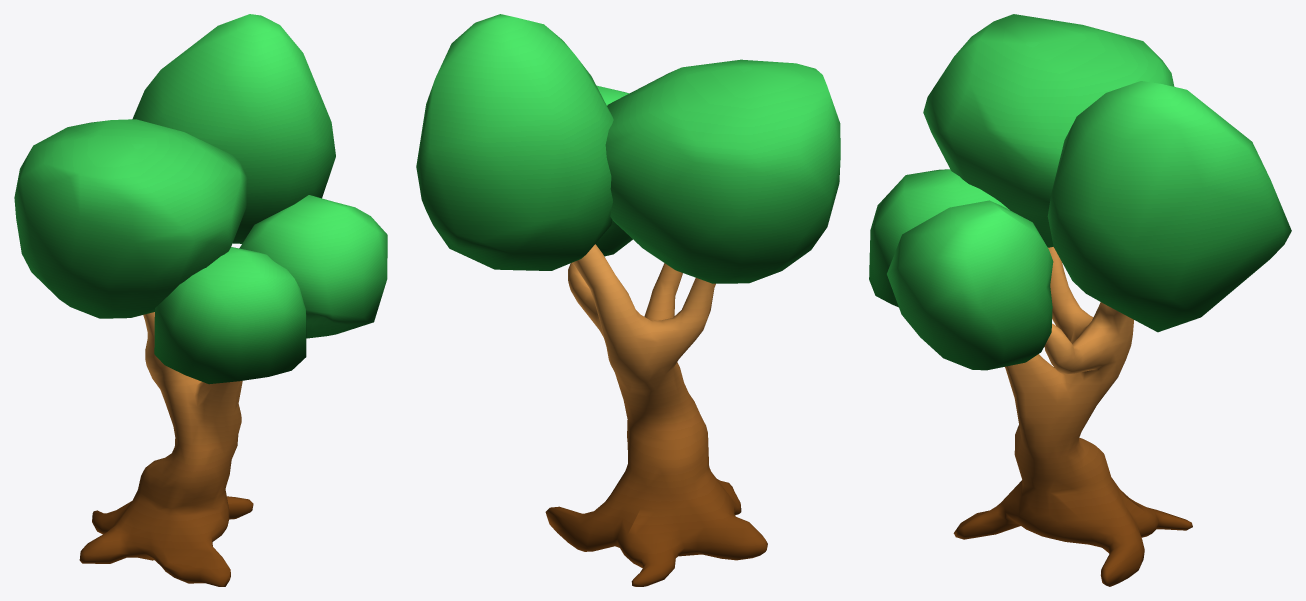
The model's file is Tree1 B2G1.fbx.
3 renders of one model, left to right at view 1: azimuth 30°, elevation 25°; view 2: azimuth 150°, elevation 25°; view 3: azimuth 270°, elevation 25°, orthographic. The views are drawn at different scales.
Parts seen in each view (by area): view 1: Tree1 Leaves, Tree1 Leaves.001, Tree1 B2, Tree1 Leaves.002, Tree1 Leaves.003; view 2: Tree1 Leaves, Tree1 Leaves.001, Tree1 B2, Tree1 Leaves.003; view 3: Tree1 Leaves.001, Tree1 Leaves, Tree1 B2, Tree1 Leaves.003, Tree1 Leaves.002.
Part boxes in pixels (bbox=[...]): Tree1 Leaves: bbox=[14, 119, 246, 318]; Tree1 Leaves.001: bbox=[132, 14, 335, 243]; Tree1 B2: bbox=[79, 312, 253, 586]; Tree1 Leaves.002: bbox=[154, 247, 306, 384]; Tree1 Leaves.003: bbox=[239, 195, 387, 338]; Tree1 Leaves: bbox=[605, 59, 840, 283]; Tree1 Leaves.001: bbox=[416, 14, 613, 270]; Tree1 B2: bbox=[545, 244, 767, 586]; Tree1 Leaves.003: bbox=[595, 85, 632, 256]; Tree1 Leaves.001: bbox=[1047, 81, 1291, 332]; Tree1 Leaves: bbox=[923, 14, 1174, 247]; Tree1 B2: bbox=[953, 247, 1192, 586]; Tree1 Leaves.003: bbox=[887, 200, 1053, 370]; Tree1 Leaves.002: bbox=[869, 169, 1009, 307].
Size of the model in its own units: 18.71 by 19.12 by 26.11.
